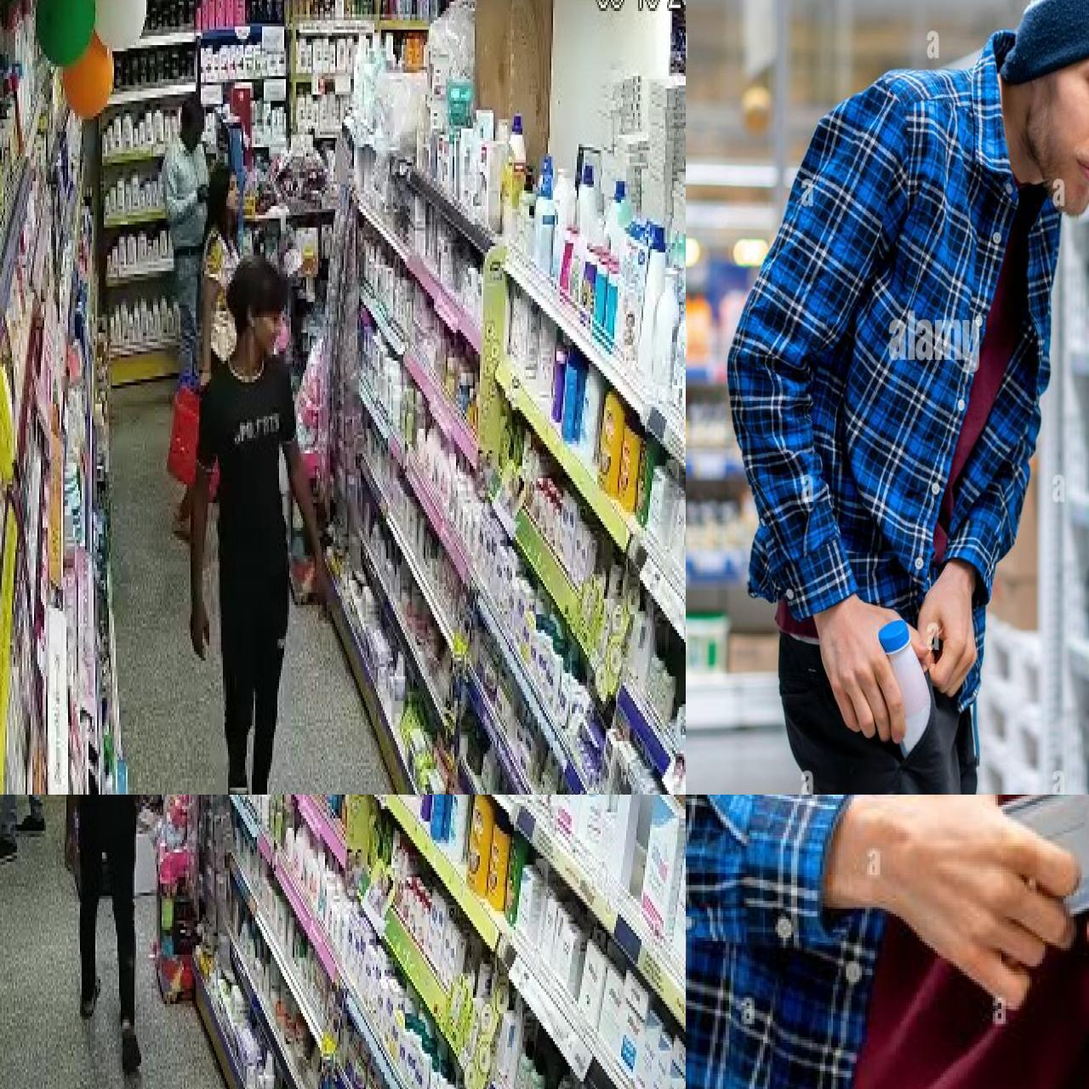Normal: (41, 27, 635, 761)
shoplifting: (717, 537, 1021, 787)
